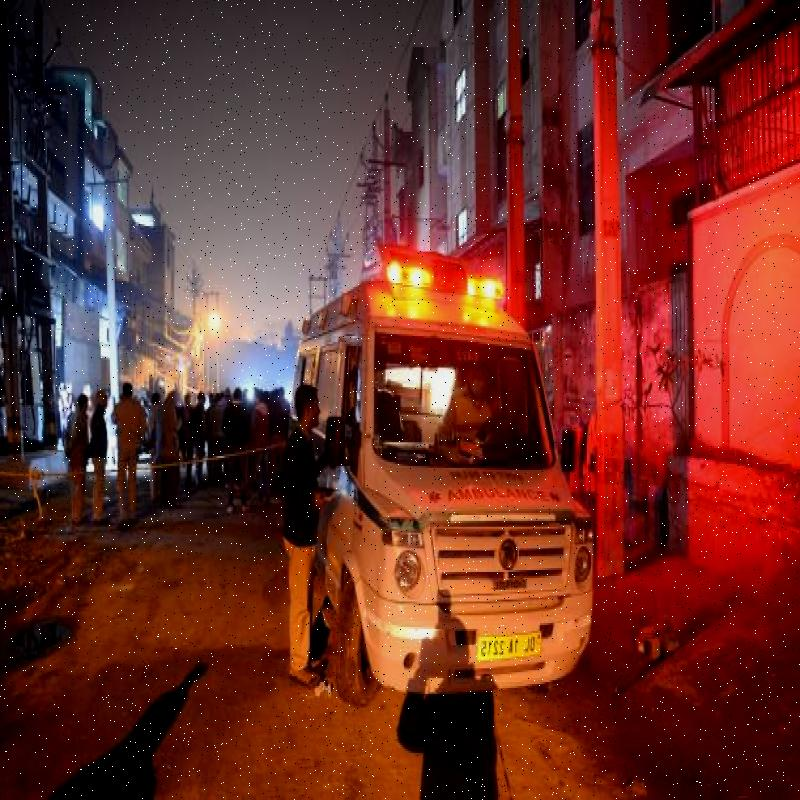ambulance: (299, 251, 630, 692)
